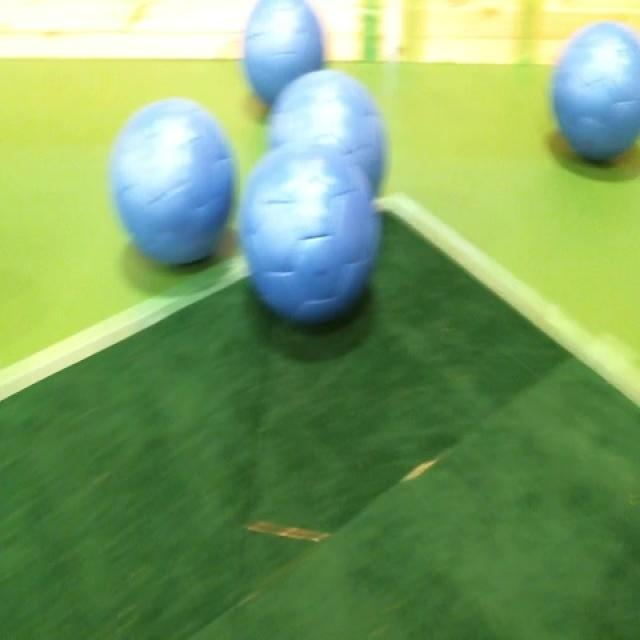blue_ball: (244, 145, 380, 331), (113, 103, 238, 267), (265, 68, 386, 194), (554, 24, 640, 169), (241, 0, 322, 98)
